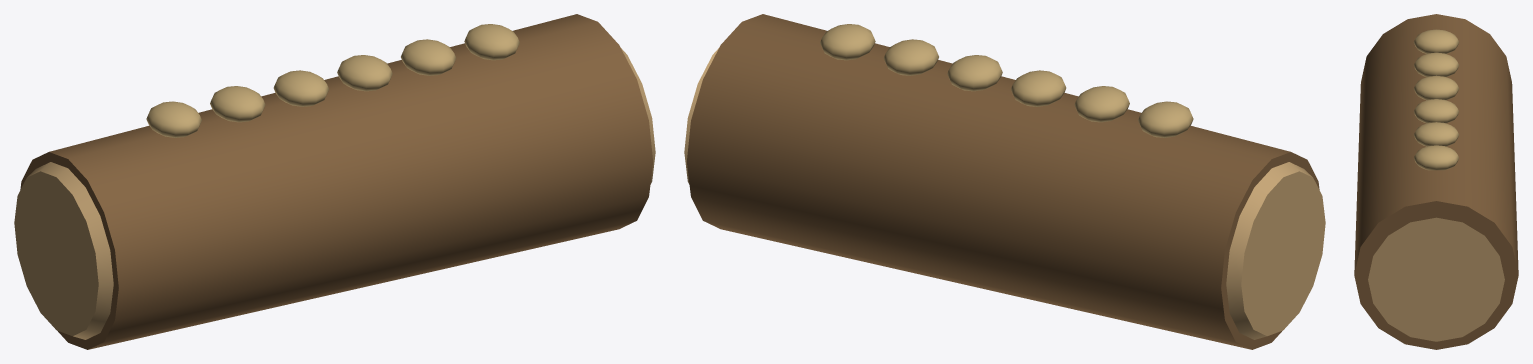
Rendered from fixture-lion-scratch-v01.glb.
3 renders of one model, left to right at view 1: azimuth 30°, elevation 25°; view 2: azimuth 150°, elevation 25°; view 3: azimuth 270°, elevation 25°, orthographic. The views are drawn at different scales.
Parts seen in each view (by area): view 1: enrichment-log, merged-static, portion-0, portion-1, portion-4, portion-3, portion-5, portion-2; view 2: enrichment-log, merged-static, portion-0, portion-1, portion-4, portion-3, portion-5, portion-2; view 3: enrichment-log, merged-static, portion-5, portion-0, portion-1, portion-2, portion-4, portion-3.
Part boxes in pixels (x1,y1,x2,y2): enrichment-log: (20,14,652,349); merged-static: (14,48,655,339); portion-0: (146,101,201,137); portion-1: (210,86,265,122); portion-4: (401,39,456,75); portion-3: (337,55,392,91); portion-5: (464,24,519,60); portion-2: (273,70,328,106); enrichment-log: (687,14,1319,349); merged-static: (684,48,1325,339); portion-0: (1138,101,1193,137); portion-1: (1074,86,1129,122); portion-4: (883,39,938,75); portion-3: (947,55,1002,91); portion-5: (820,24,875,60); portion-2: (1011,70,1066,106); enrichment-log: (1354,14,1518,349); merged-static: (1368,217,1504,341); portion-5: (1413,145,1459,170); portion-0: (1413,29,1459,53); portion-1: (1413,52,1459,76); portion-2: (1413,75,1459,100); portion-4: (1414,122,1458,146); portion-3: (1414,99,1458,123).
Size of the model in its own units: 0.522 by 0.197 by 0.18.
